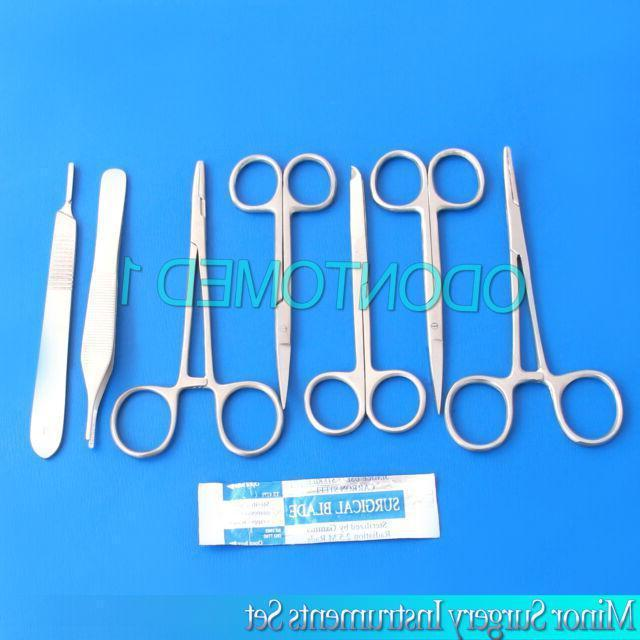Forceps: (75, 164, 131, 454)
Hemostat: (440, 142, 629, 454), (106, 154, 287, 464)
Iris: (365, 144, 489, 424), (224, 146, 342, 417)
Mayo_metz: (299, 161, 431, 439)
Scalpel: (27, 157, 79, 462)
